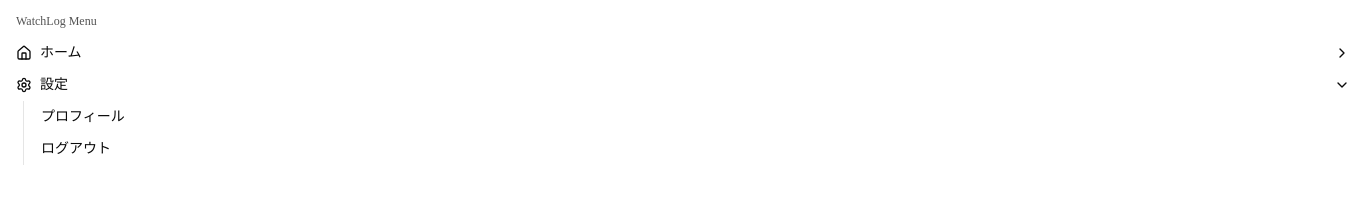
Test: NavMain › 折りたたみ操作 (isActive=false) › トリガーをクリックするとサブアイテムが展開される
Click the button "ホーム" at coordinates (61, 52), box [8, 37, 1358, 69]
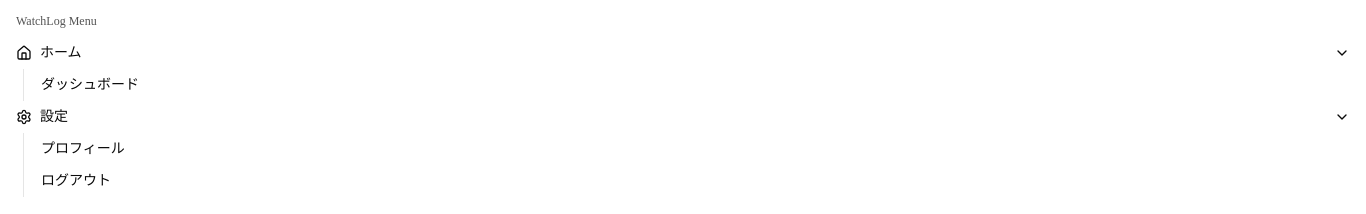
Check: the text "ダッシュボード" is shown, box [41, 75, 139, 95]
